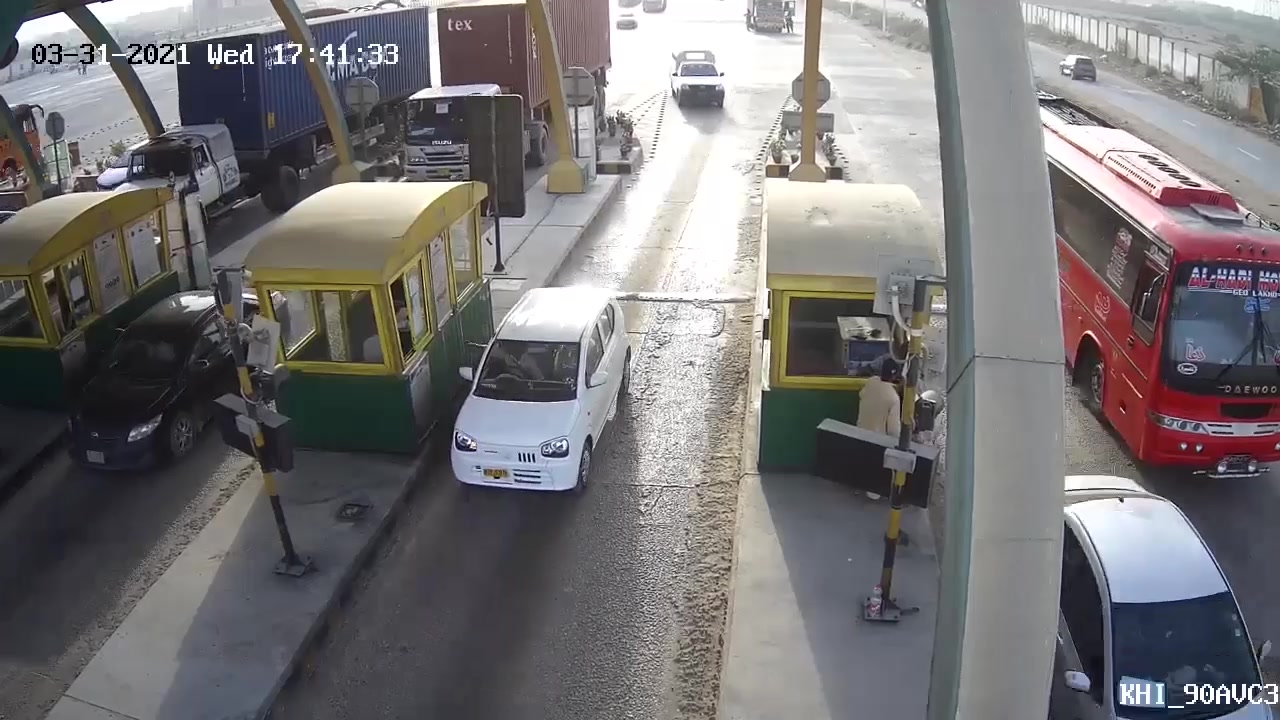F1: (448, 286, 638, 517)
